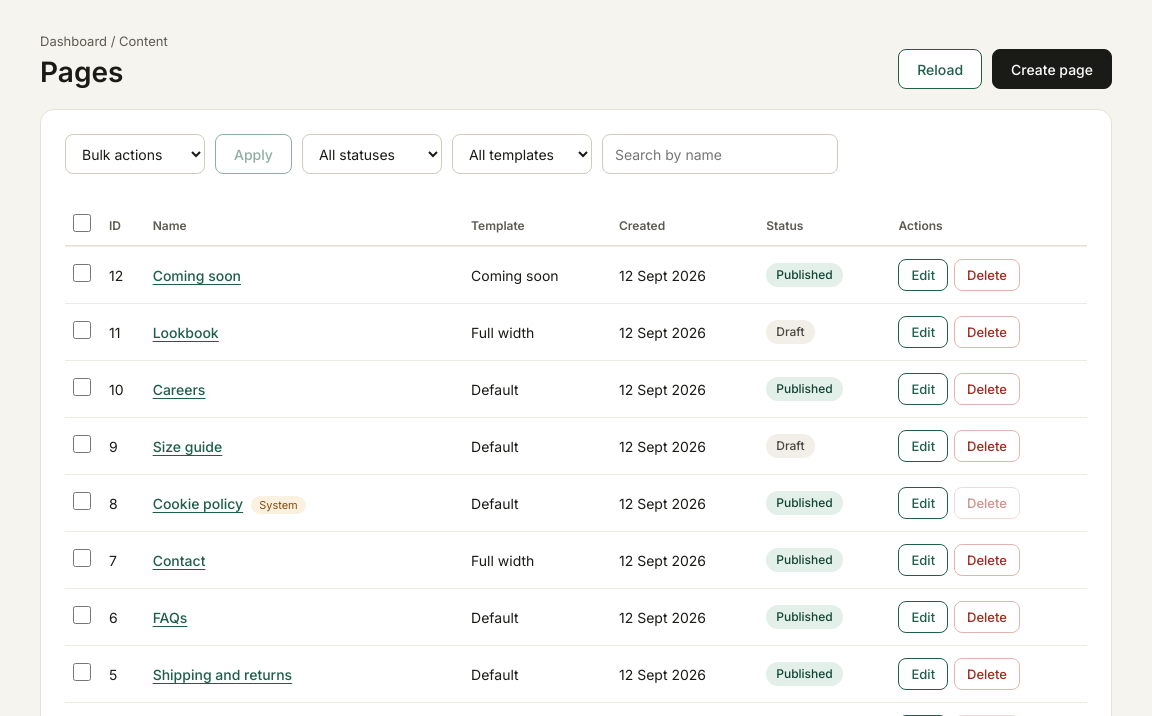
Test: PagesModule › auto-fills the permalink from the name and saves a new page
Click the button "Create page".
click(1052, 69)  # box [992, 49, 1112, 89]
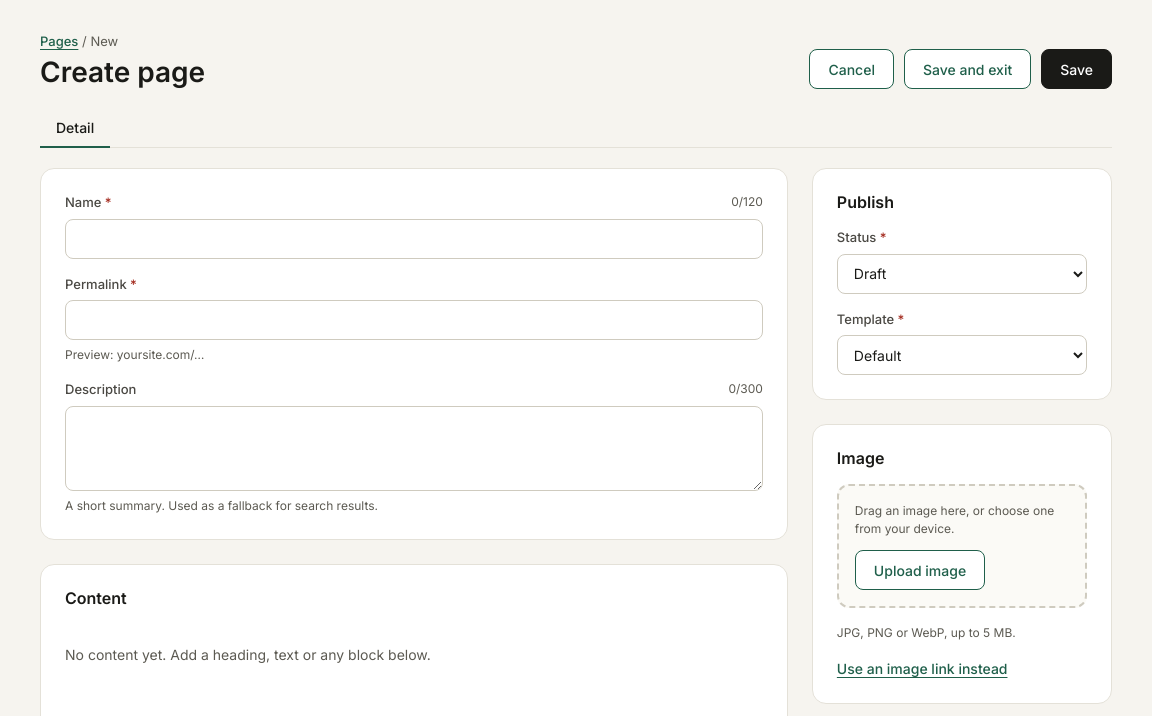
Type "Gift Cards" into the field labelled "Name *".
click(414, 239); type("Gift Cards")  # box [65, 219, 763, 259]
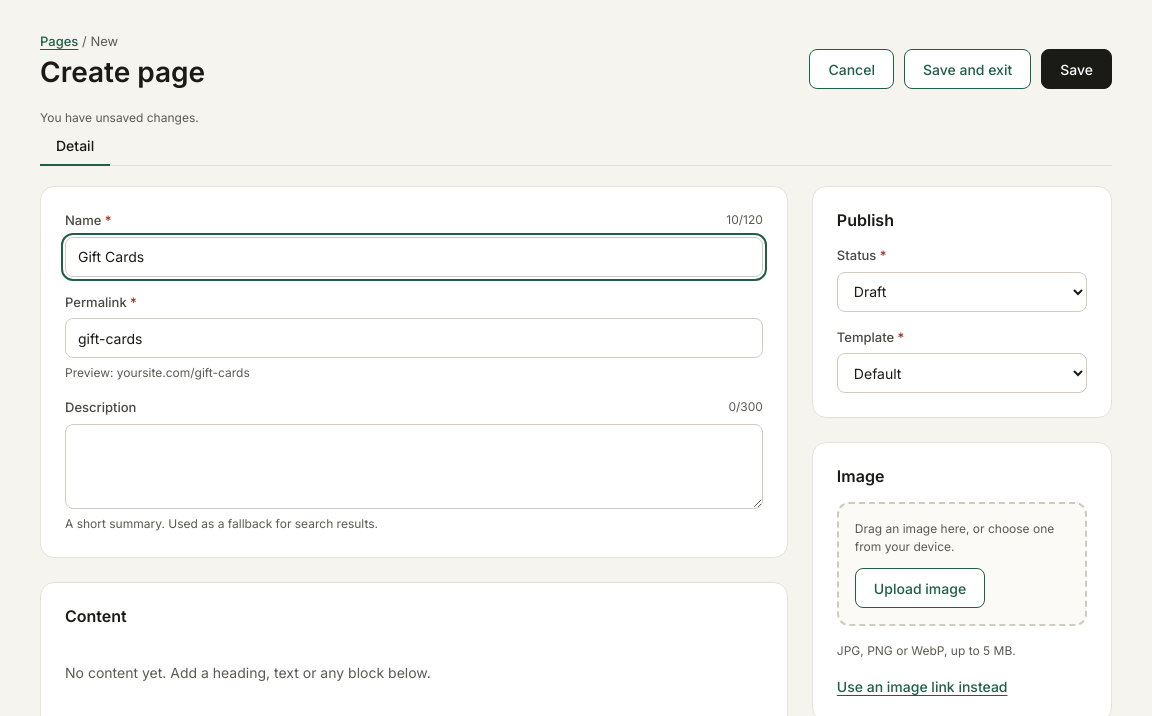
Check: the field labelled "Permalink *" holds "gift-cards", box [65, 318, 763, 358]
Click the button "Save".
click(1077, 69)  # box [1041, 49, 1112, 89]
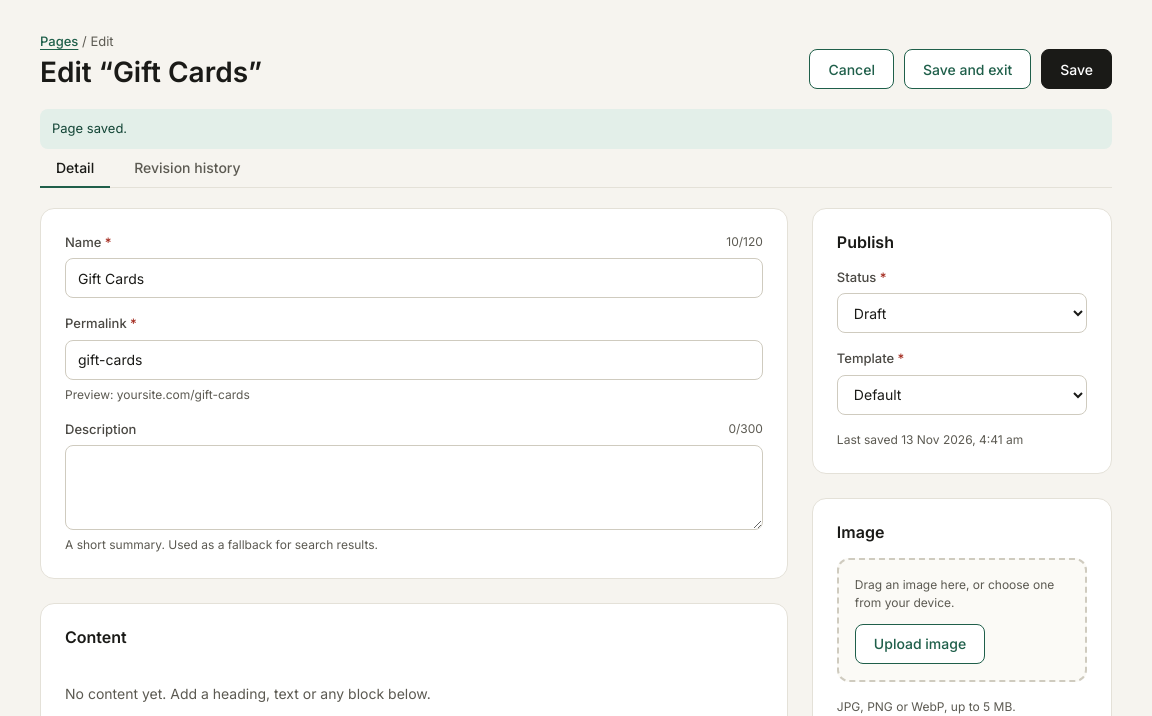
Check: the text "Page saved." is shown, box [40, 109, 1112, 149]
Check: the heading "Edit “Gift Cards”" is shown, box [40, 56, 262, 89]
